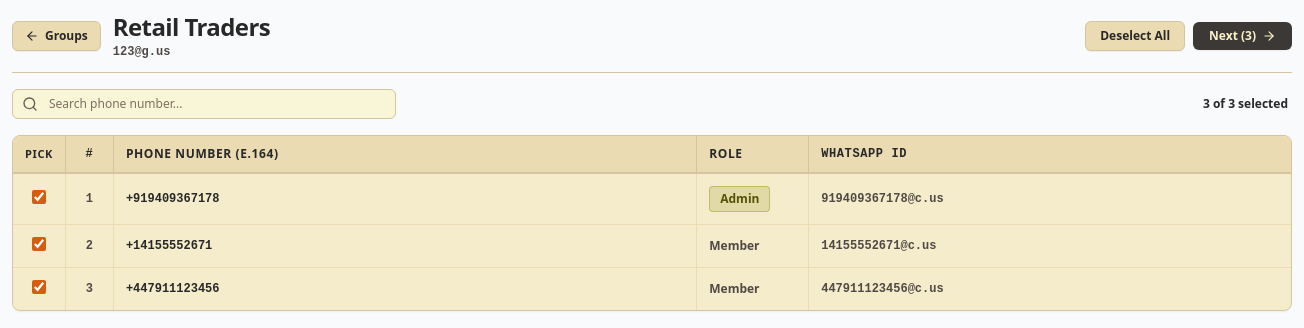
Test: ParticipantSelector component › disables Next button when 0 participants selected
Click the button "Deselect All". click: point(1135, 36)
box: [1085, 21, 1185, 51]
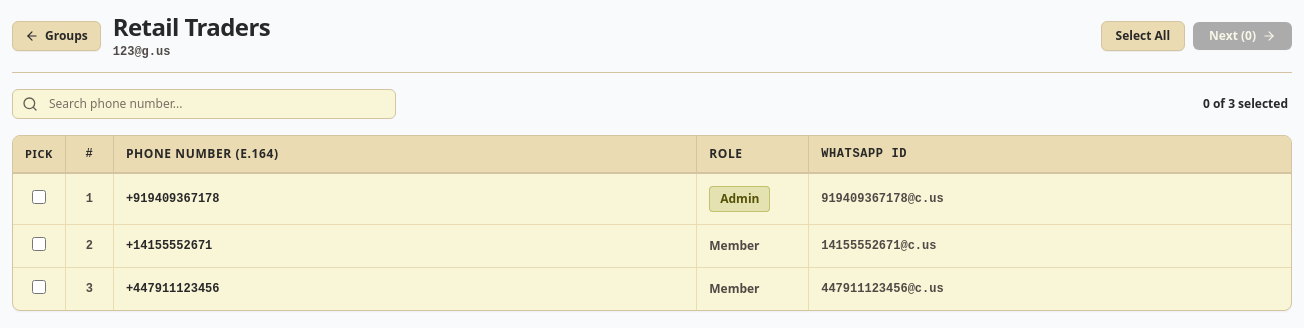
Check: the button "Next (0)" is disabled, box [1193, 22, 1292, 50]
